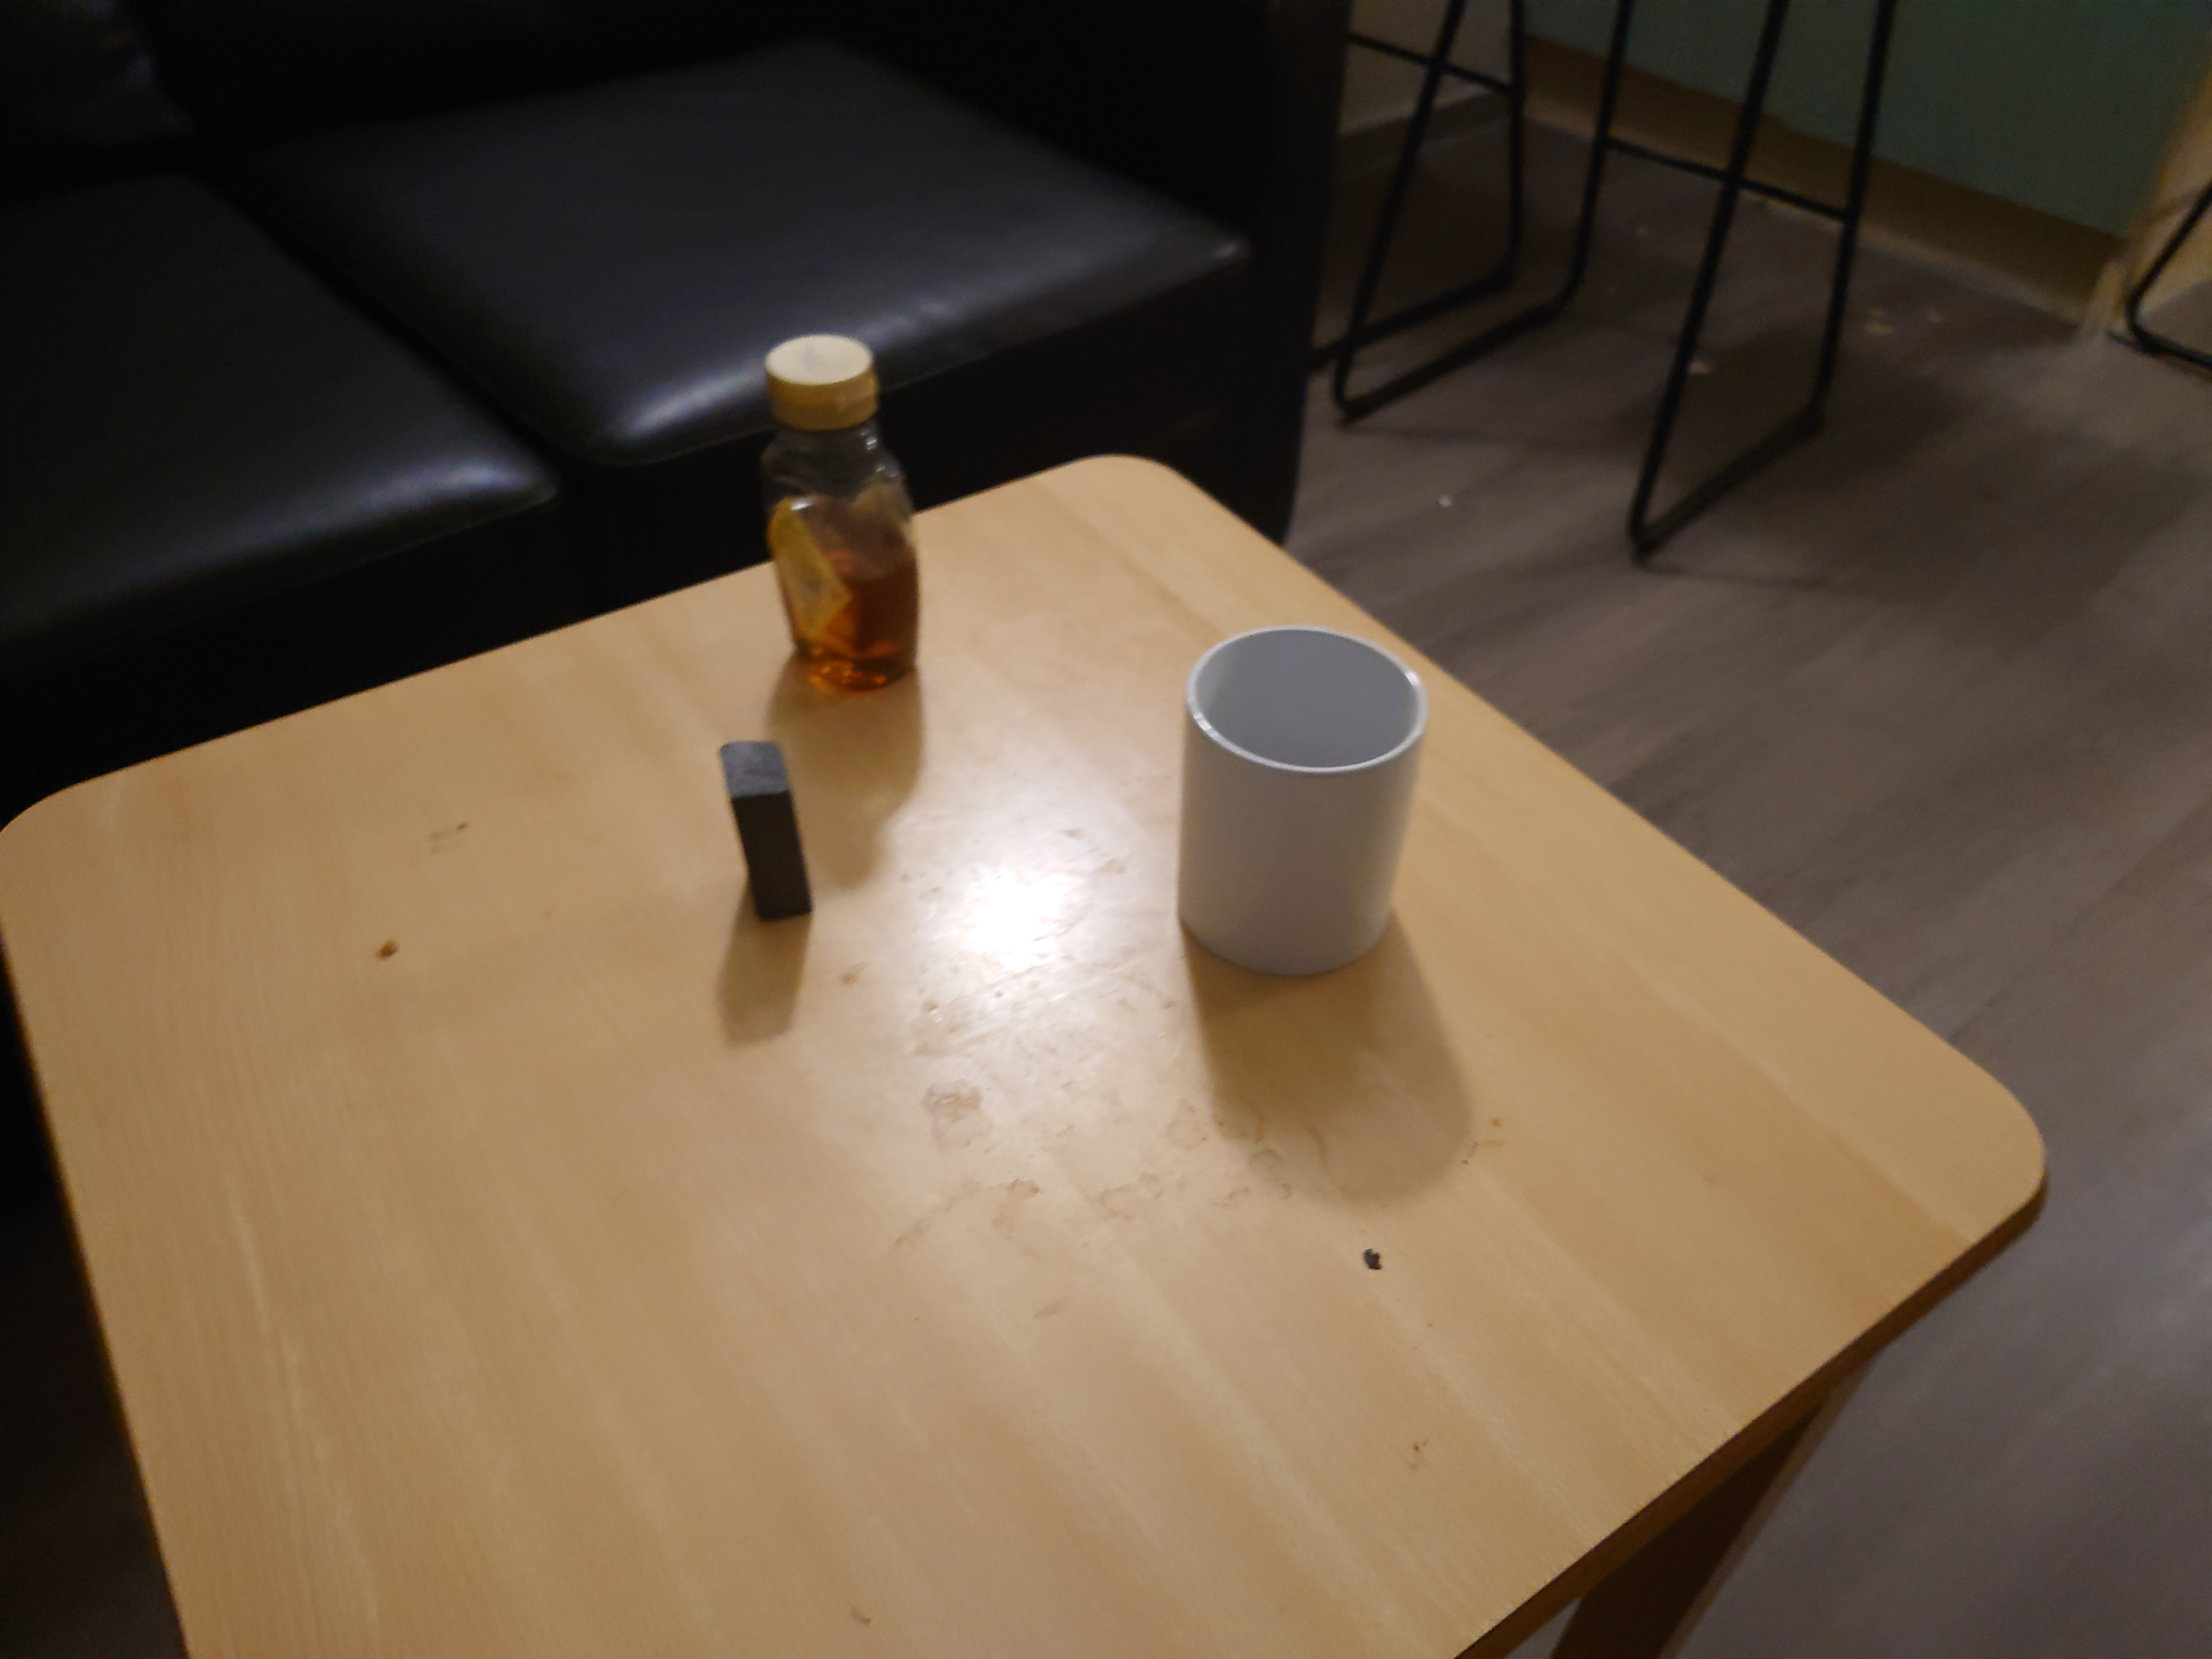cup: (1176, 624, 1430, 981)
target: (712, 741, 817, 924)
